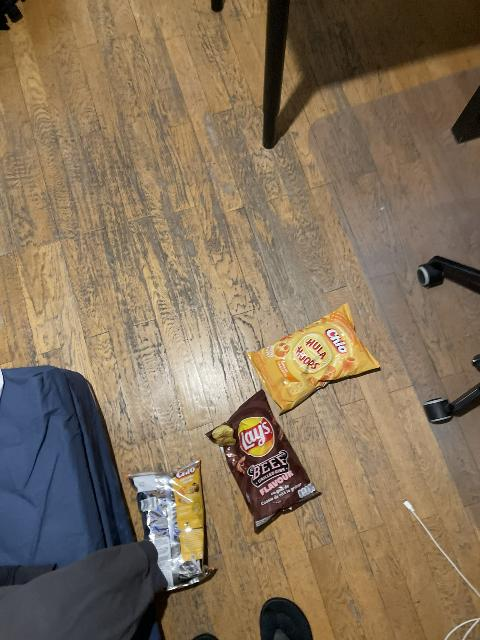Chio Cascaval 125g: (127, 461, 209, 592)
Chio Hula Hoops Cheese 70g: (245, 306, 377, 411)
Lays Beef Grilled Ribs 125g: (205, 393, 322, 532)
